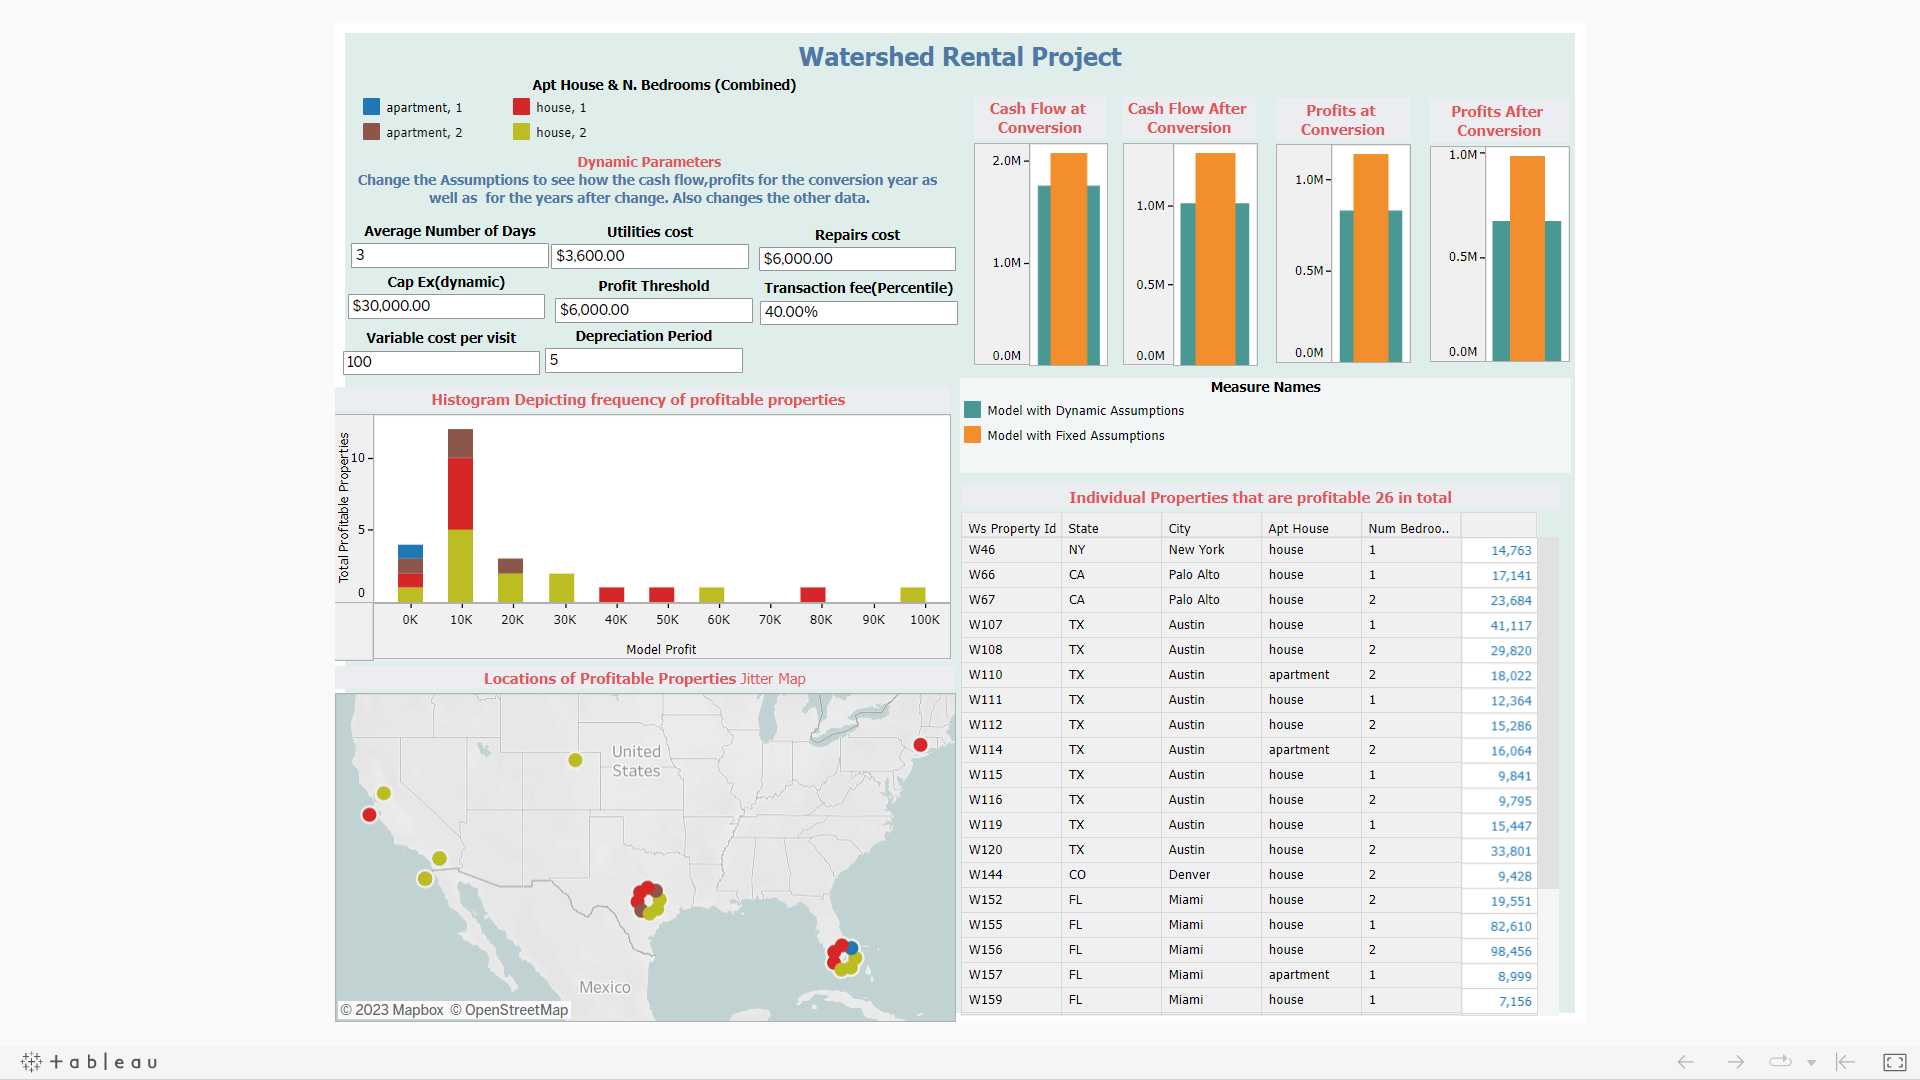

What the dashboard file says about the page in this screenshot:
{"tool":"tableau","page":{"name":"Dashboard 1","canvas":[1000,800],"ordinal":0},"visuals":[{"type":"title","box":[8,8,984,36]},{"type":"legend","title":"Histogram","param":"[federated.00v29dc0n66q2m168wt3x0tukczf].[Apt House & Num Bedrooms (Combined)]","box":[19,42,489,57]},{"type":"worksheet","title":"Cash Flow at Conversion","mark":"Bar","rows":["Calculation_785596676514820114","Model Cash Conv(fixed) (copy)_785596676515008531"],"box":[511,59,107,215]},{"type":"worksheet","title":"Cash Flow After Conversion","mark":"Bar","rows":["Calculation_785596676516081684","Model Cash After(fixed) (copy)_785596676516327445"],"box":[630,59,108,215]},{"type":"worksheet","title":"Profits at Conversion","mark":"Bar","rows":["Calculation_785596676512849936","Model Profit Conv(fixed) (copy)_785596676513103889"],"box":[753,60,108,212]},{"type":"worksheet","title":"Profits After Conversion","mark":"Bar","rows":["Calculation_785596676500004878","Model Profit After(fixed) (copy)_785596676511375375"],"box":[876,61,112,210]},{"type":"text","box":[9,90,485,70]},{"type":"parameter","param":"[Parameters].[Avg Stay(fixed) (copy)_1067634602834632721]","box":[12,159,160,44]},{"type":"parameter","param":"[Parameters].[Utilities(fixed) (copy)_1067634602833539086]","box":[172,160,160,44]},{"type":"parameter","param":"[Parameters].[Repairs after(fixed) (copy)_1067634602834108431]","box":[338,162,160,44]},{"type":"parameter","param":"[Parameters].[Cap Ex(fixed) (copy)_1067634602831110156]","box":[9,200,160,44]},{"type":"parameter","param":"[Parameters].[Profit Threshold(fixed) (copy)_1067634602834886674]","box":[175,203,160,44]},{"type":"parameter","param":"[Parameters].[Parameter 2]","box":[339,205,160,44]},{"type":"parameter","param":"[Parameters].[Depr Period(fixed) (copy)_1067634602833113101]","box":[167,243,160,44]},{"type":"parameter","param":"[Parameters].[Variable cost per visit(fixed) (copy)_1067634602834411536]","box":[5,245,160,44]},{"type":"legend","title":"Cash Flow at Conversion","param":"[federated.00v29dc0n66q2m168wt3x0tukczf].[:Measure Names]","box":[500,284,489,76]},{"type":"worksheet","title":"Table","mark":"Automatic","rows":["ws_property_id","state","city","apt_house","num_bedrooms"],"box":[501,369,498,425]},{"type":"worksheet","title":"Jitter Map","mark":"Automatic","box":[0,514,497,285]}]}

Visuals, with their boxes on the page's 1000x800 design canvas (x1, y1, x2, y2). These are canvas units, not pixel positions in the 1920x1080 screenshot, which may show the page scaled, cropped or inside an application window:
title: bbox=(8, 8, 992, 44)
"Histogram" legend: bbox=(19, 42, 508, 99)
"Cash Flow at Conversion" worksheet (Bar marks): bbox=(511, 59, 618, 274)
"Cash Flow After Conversion" worksheet (Bar marks): bbox=(630, 59, 738, 274)
"Profits at Conversion" worksheet (Bar marks): bbox=(753, 60, 861, 272)
"Profits After Conversion" worksheet (Bar marks): bbox=(876, 61, 988, 271)
text: bbox=(9, 90, 494, 160)
parameter: bbox=(12, 159, 172, 203)
parameter: bbox=(172, 160, 332, 204)
parameter: bbox=(338, 162, 498, 206)
parameter: bbox=(9, 200, 169, 244)
parameter: bbox=(175, 203, 335, 247)
parameter: bbox=(339, 205, 499, 249)
parameter: bbox=(167, 243, 327, 287)
parameter: bbox=(5, 245, 165, 289)
"Cash Flow at Conversion" legend: bbox=(500, 284, 989, 360)
"Table" worksheet: bbox=(501, 369, 999, 794)
"Jitter Map" worksheet: bbox=(0, 514, 497, 799)
